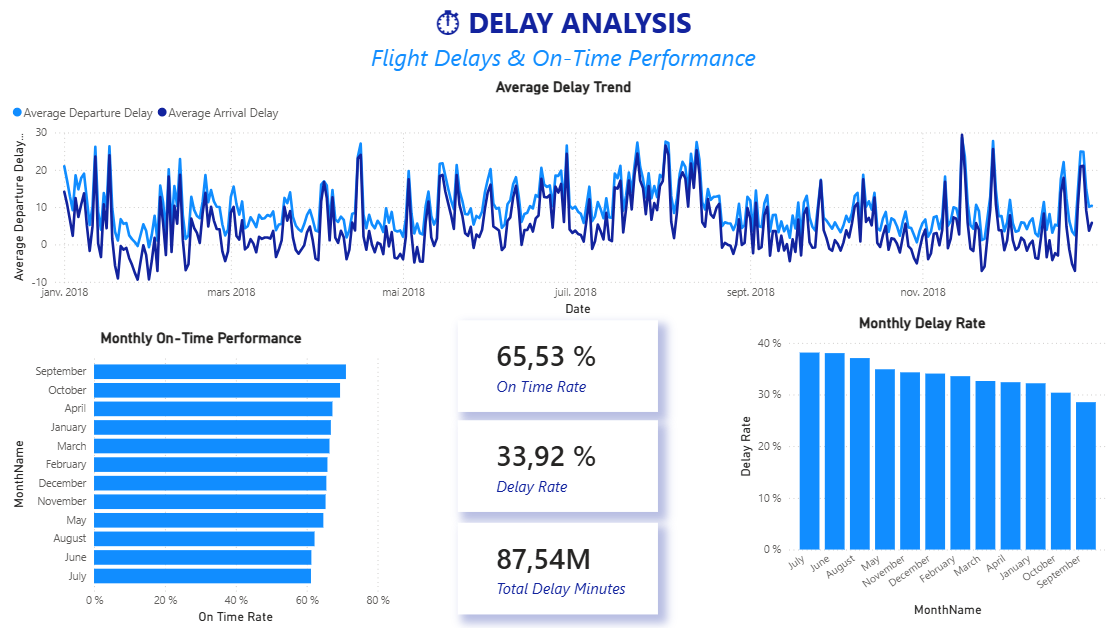

The page's visual inventory and layout, read from the dashboard file:
{"tool":"powerbi","page":{"name":"Delay Analysis","canvas":[1280,720],"ordinal":2},"visuals":[{"type":"textbox","box":[10.1,0,1270.2,90.6],"z":0},{"type":"lineChart","title":"Average Delay Trend","fields":{"Category":["DimDate.Date"],"Y":["measure.Average Departure Delay","measure.Average Arrival Delay"]},"box":[10.1,90.6,1270.2,276.9],"z":1000},{"type":"columnChart","title":"Monthly Delay Rate","fields":{"Category":["DimDate.MonthName"],"Y":["measure.Delay Rate"]},"box":[839.7,360,430.5,351.2],"z":2000},{"type":"clusteredBarChart","title":"Monthly On-Time Performance","fields":{"Category":["DimDate.MonthName"],"Y":["measure.On Time Rate"]},"box":[10.1,377.7,441.9,342.4],"z":3000},{"type":"cardVisual","fields":{"Data":["measure.On Time Rate"]},"box":[524.9,367.6,229.1,104.5],"z":4000},{"type":"cardVisual","fields":{"Data":["measure.Delay Rate"]},"box":[524.9,480.9,229.1,104.5],"z":5000},{"type":"cardVisual","fields":{"Data":["measure.Total Delay Minutes"]},"box":[524.9,598,229.1,104.5],"z":6000}]}

Visuals, with their boxes in screenshot pixels (x1, y1, x2, y2), scaled from the page's 1280x720 canvas onto the 1116x628 screenshot:
textbox: x1=9 y1=0 x2=1115 y2=79
"Average Delay Trend" lineChart: x1=9 y1=79 x2=1115 y2=321
"Monthly Delay Rate" columnChart: x1=732 y1=314 x2=1107 y2=620
"Monthly On-Time Performance" clusteredBarChart: x1=9 y1=329 x2=394 y2=627
cardVisual - measure.On Time Rate: x1=458 y1=321 x2=657 y2=412
cardVisual - measure.Delay Rate: x1=458 y1=419 x2=657 y2=511
cardVisual - measure.Total Delay Minutes: x1=458 y1=522 x2=657 y2=613
